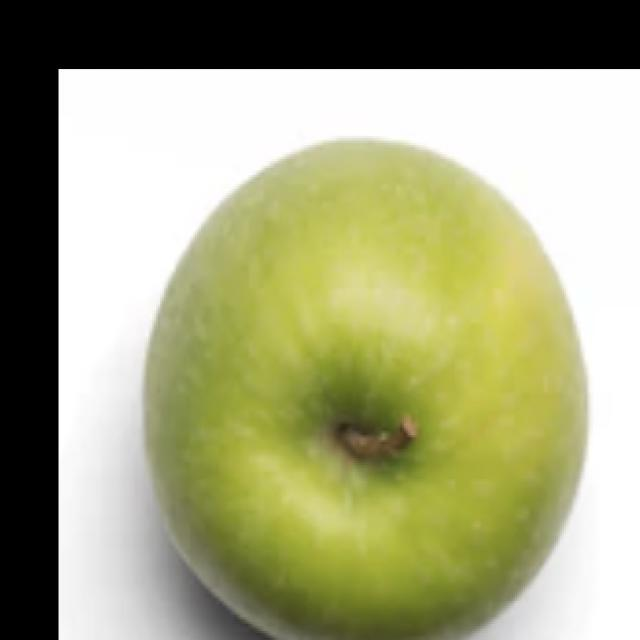Fresh Apple: (140, 134, 589, 640)
